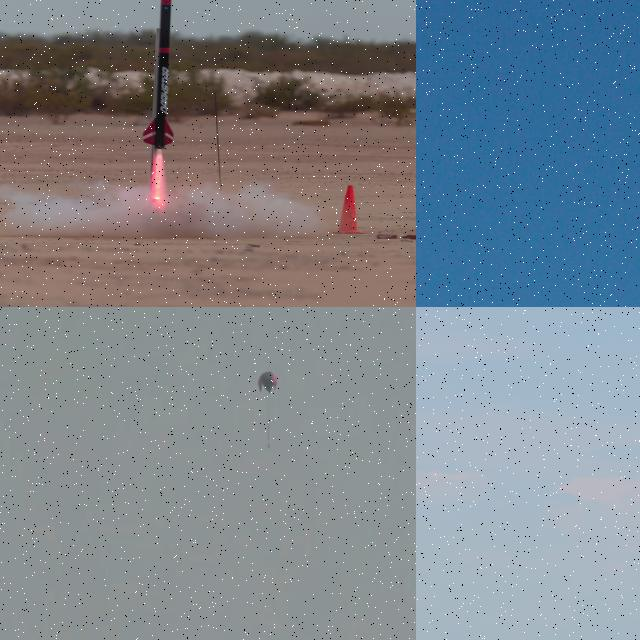Rocket: (142, 0, 174, 150), (268, 443, 270, 449)
